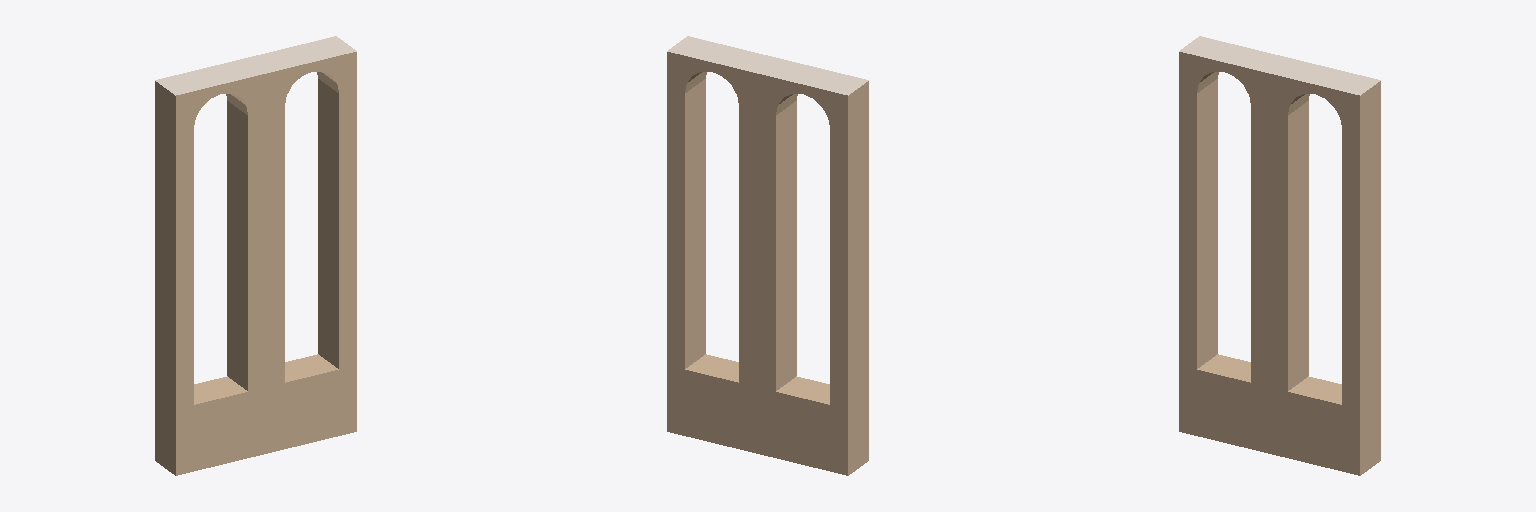
The model's file is Wall_Straight_Windows_Tall.obj.
The picture shows the model from 3 angles: view 1: azimuth 30°, elevation 25°; view 2: azimuth 150°, elevation 25°; view 3: azimuth 330°, elevation 25°; orthographic projection.
Visible parts, largest first — view 1: object1; view 2: object1; view 3: object1.
Boxes of the visible parts, x1=… form: object1: x1=155, y1=36, x2=356, y2=475; object1: x1=667, y1=36, x2=868, y2=475; object1: x1=1179, y1=36, x2=1380, y2=475.
Bounding box in the file's own units: 1 × 2 × 0.2.